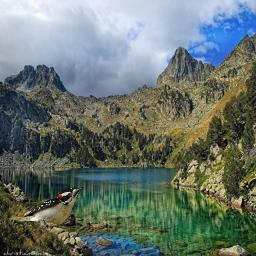Woodpecker: (9, 185, 84, 228)
